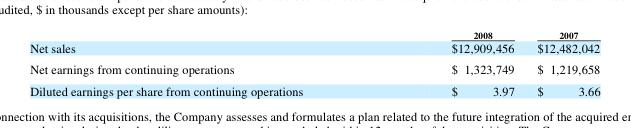table: (29, 28, 599, 97)
table column: (29, 28, 376, 97), (376, 28, 525, 97), (525, 28, 599, 97)
table column header: (29, 28, 599, 40)
table row: (29, 58, 599, 79), (29, 40, 599, 58), (29, 79, 599, 97), (29, 28, 599, 40)
